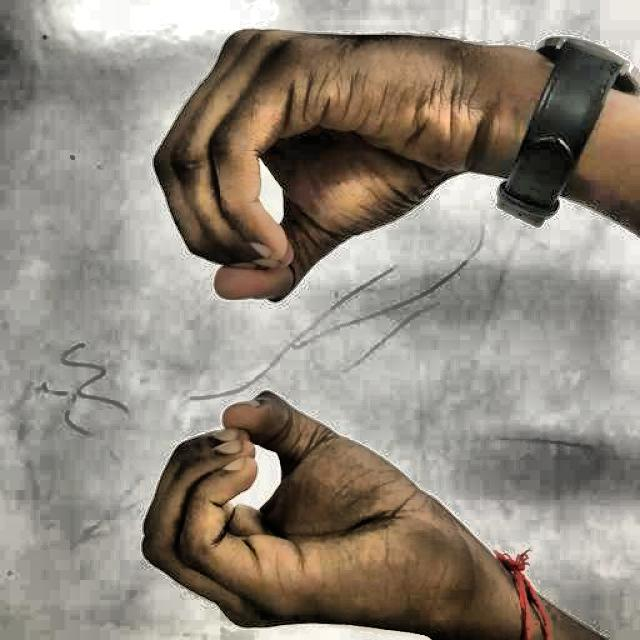Bisharga: (112, 7, 482, 638)
